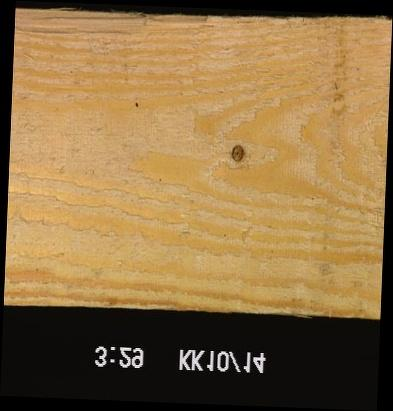dry_knot: (228, 141, 245, 165)
wave: (55, 5, 215, 31)
